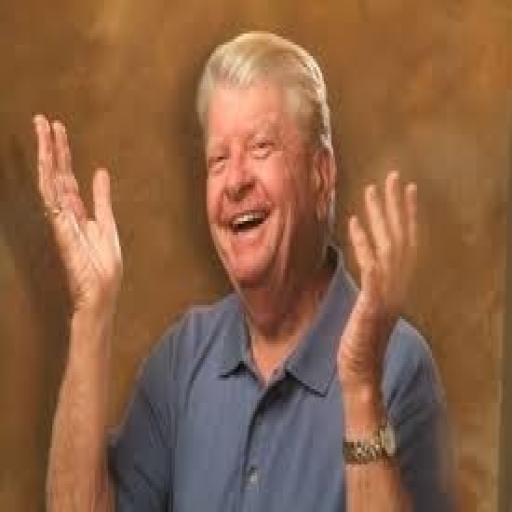laughing: (24, 22, 458, 504)
